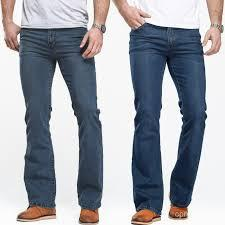pants: (11, 26, 109, 212), (121, 18, 206, 210)
